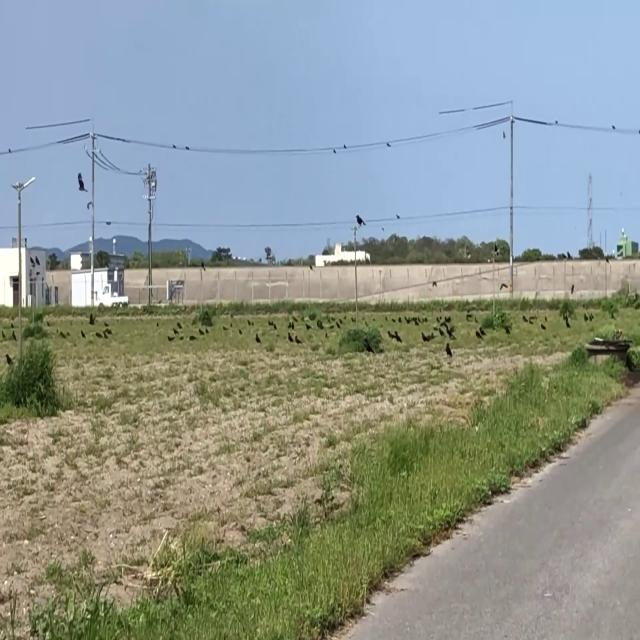bird: (77, 165, 86, 196), (355, 209, 365, 232), (446, 340, 452, 361), (255, 329, 260, 346), (172, 138, 176, 152)
